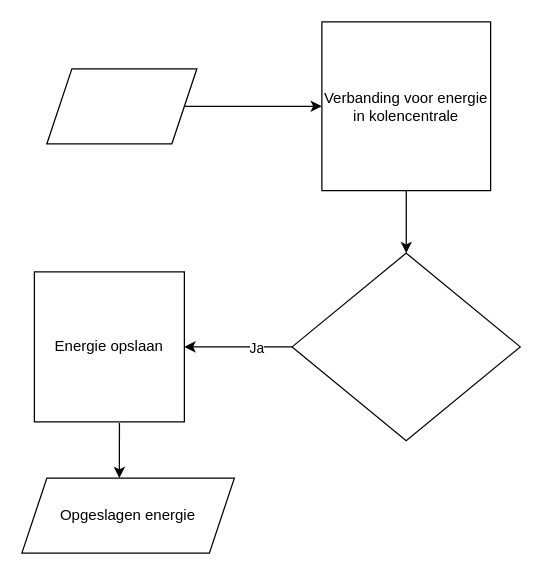
This 543x575 diagram has some shape labels left out. Here are the shapes that lost their labels. From the top down, the box of each, then its label:
(46, 68, 197, 144): Hout
(291, 252, 520, 441): Overschot aan energie?
